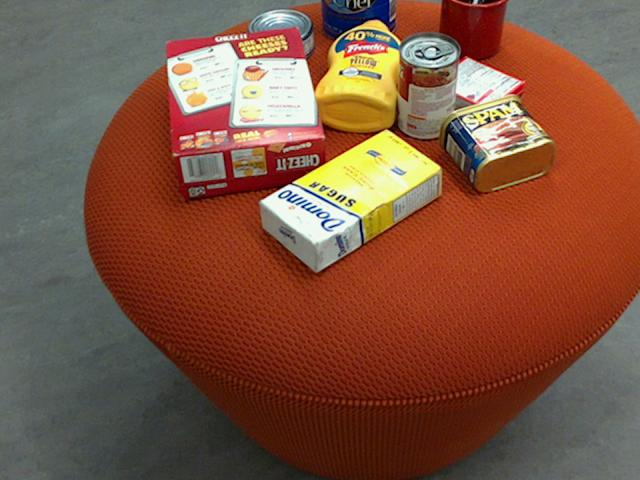cracker_box: (163, 25, 326, 195)
gelatin_box: (430, 57, 525, 126)
large_marker: (452, 0, 481, 51)
master_chef_can: (320, 0, 395, 42)
mug: (437, 0, 508, 59)
mustard_bottle: (311, 19, 405, 132)
potted_meat_can: (437, 93, 554, 192)
sugar_box: (258, 128, 442, 273)
tomato_soup_can: (397, 31, 459, 138)
tuna_fish_can: (245, 9, 312, 63)
